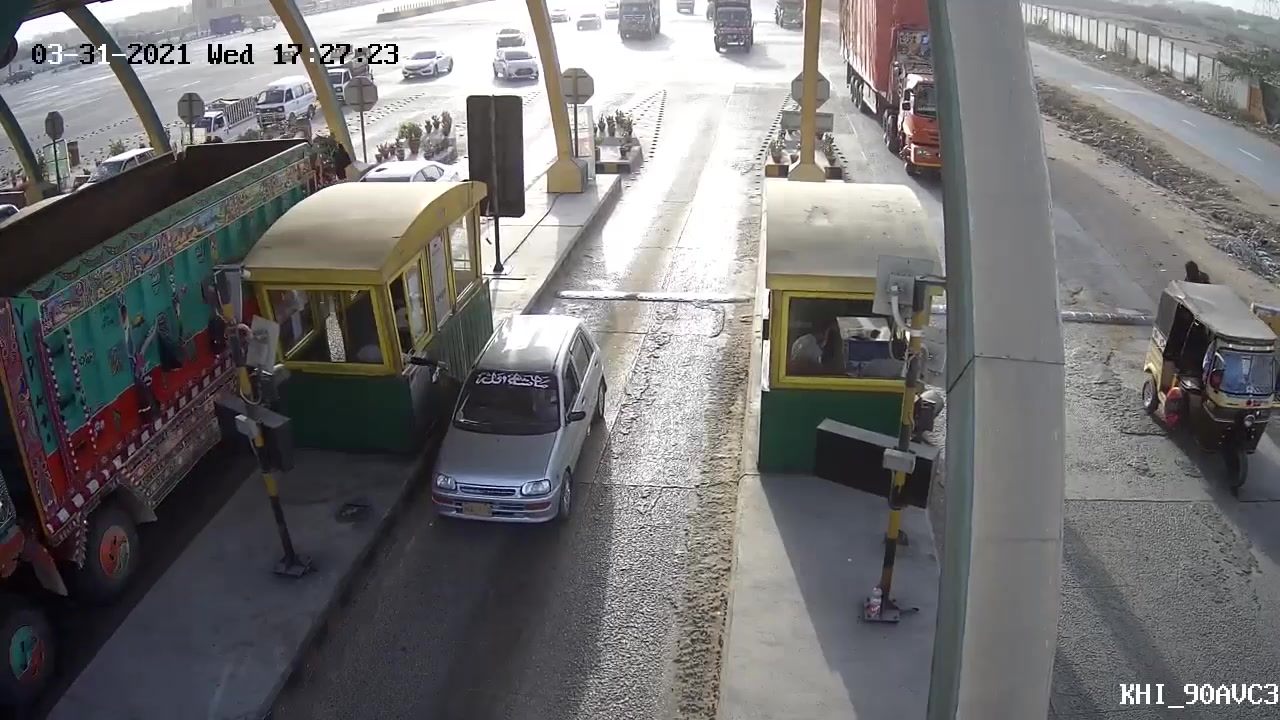F1: (411, 313, 621, 526)
